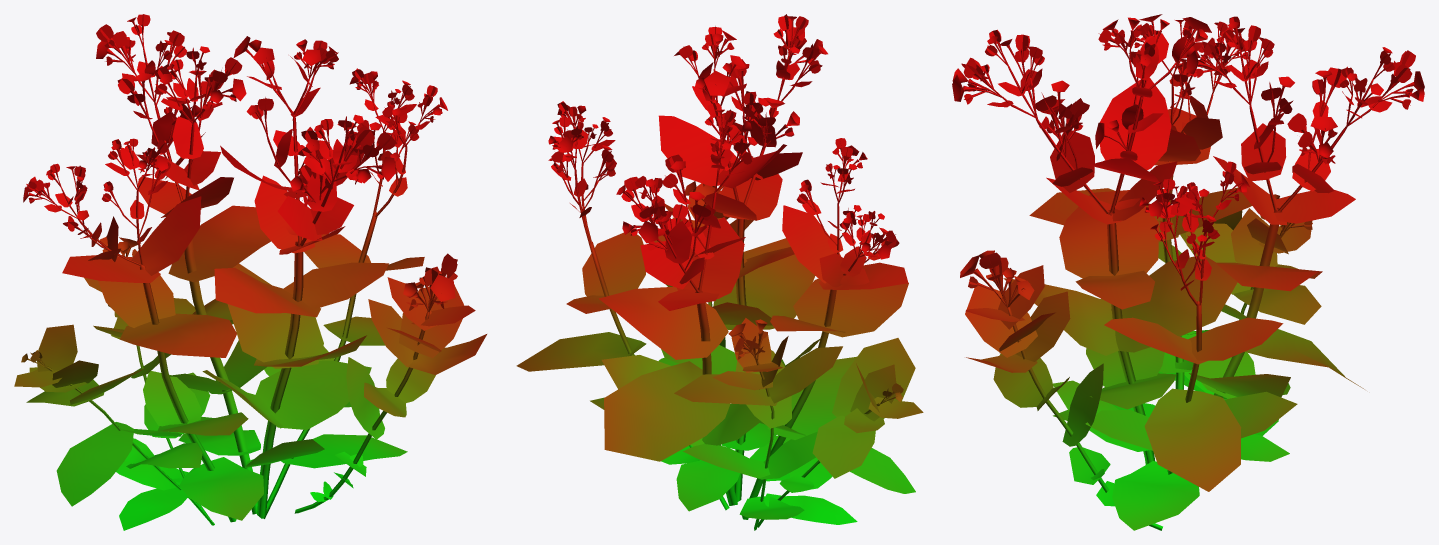
File: Rubber Bush_LOD3_Var1_xffhfekia.fbx
3 views of the same model, side by side, from view 1: azimuth 30°, elevation 25°; view 2: azimuth 150°, elevation 25°; view 3: azimuth 270°, elevation 25° (orthographic). The views are drawn at different scales.
Visible parts, largest first — view 1: _umbm_Var1_LOD3; view 2: _umbm_Var1_LOD3; view 3: _umbm_Var1_LOD3.
Part boxes in pixels (<box>): _umbm_Var1_LOD3: <box>14,14,486,530</box>; _umbm_Var1_LOD3: <box>516,14,923,530</box>; _umbm_Var1_LOD3: <box>952,14,1424,530</box>.
Bounding box in the file's own units: 77.25 × 83.75 × 70.12.
